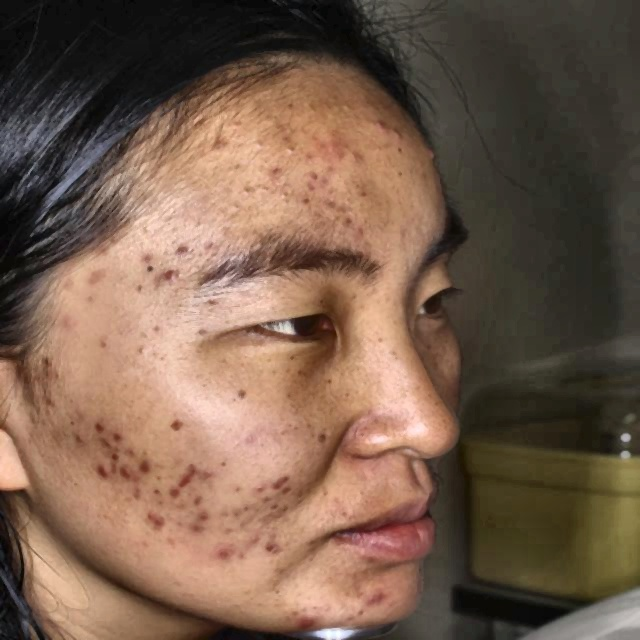papule: (363, 583, 399, 615), (202, 536, 238, 566), (317, 136, 349, 168), (82, 262, 109, 289), (266, 468, 296, 492), (254, 484, 283, 508), (298, 168, 325, 193), (262, 539, 289, 563), (106, 438, 134, 458), (163, 239, 188, 261), (325, 202, 349, 224), (92, 456, 109, 486), (363, 113, 385, 136), (300, 602, 315, 632), (168, 476, 186, 501), (180, 461, 204, 478), (60, 307, 76, 332), (89, 418, 109, 438), (382, 126, 401, 147), (119, 458, 134, 483), (161, 268, 182, 285), (196, 504, 208, 532), (142, 451, 155, 475), (155, 520, 170, 534)
